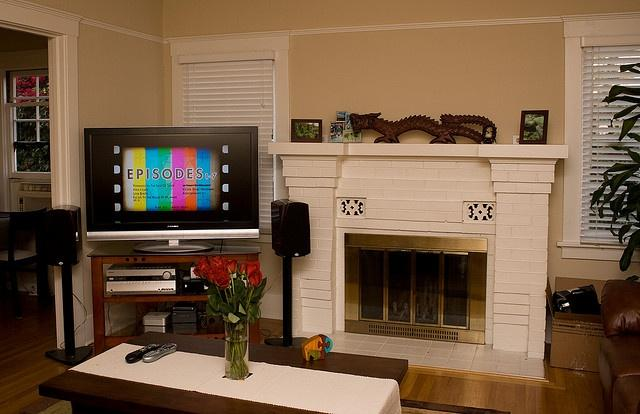AIO PC-Monitor-TV: (83, 125, 260, 254)
Meja: (37, 330, 407, 413)
